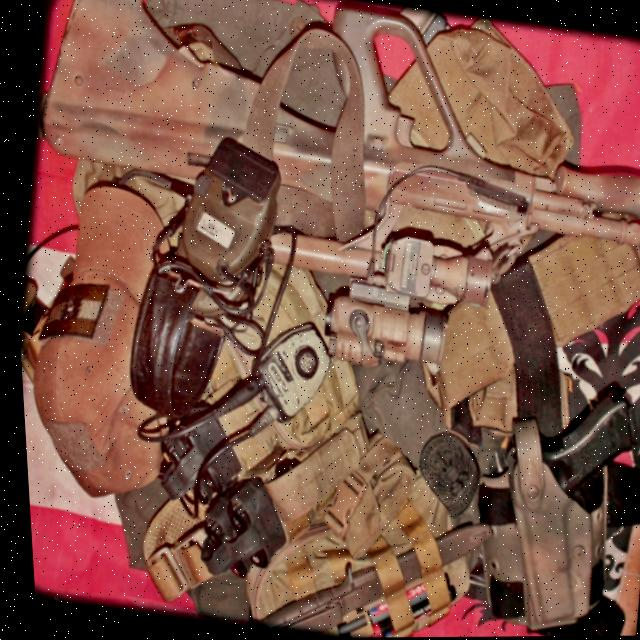firearm: (4, 0, 640, 409)
